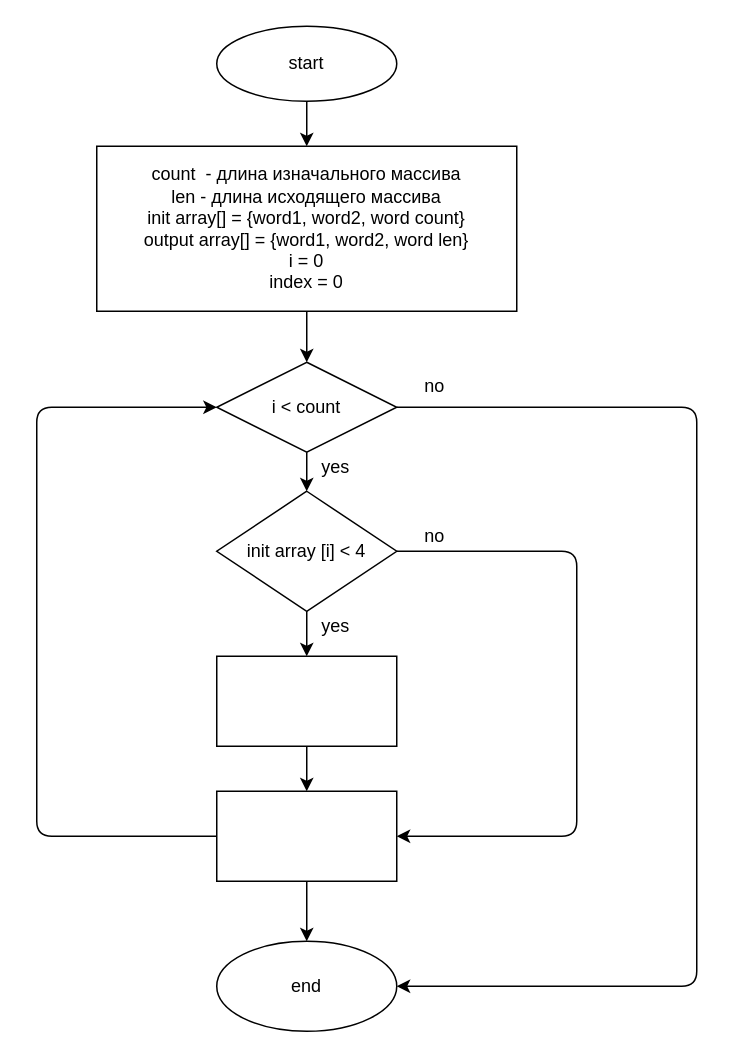
The diagram is 735 pixels wide and 1058 high, and some of its shapes have lost their labels. Here are the shapes that lost their labels. From the top down, the centre of each, then its label:
the point at 306,700: output array [index] = init array [i] index = index + 1
the point at 306,835: i = i + 1
